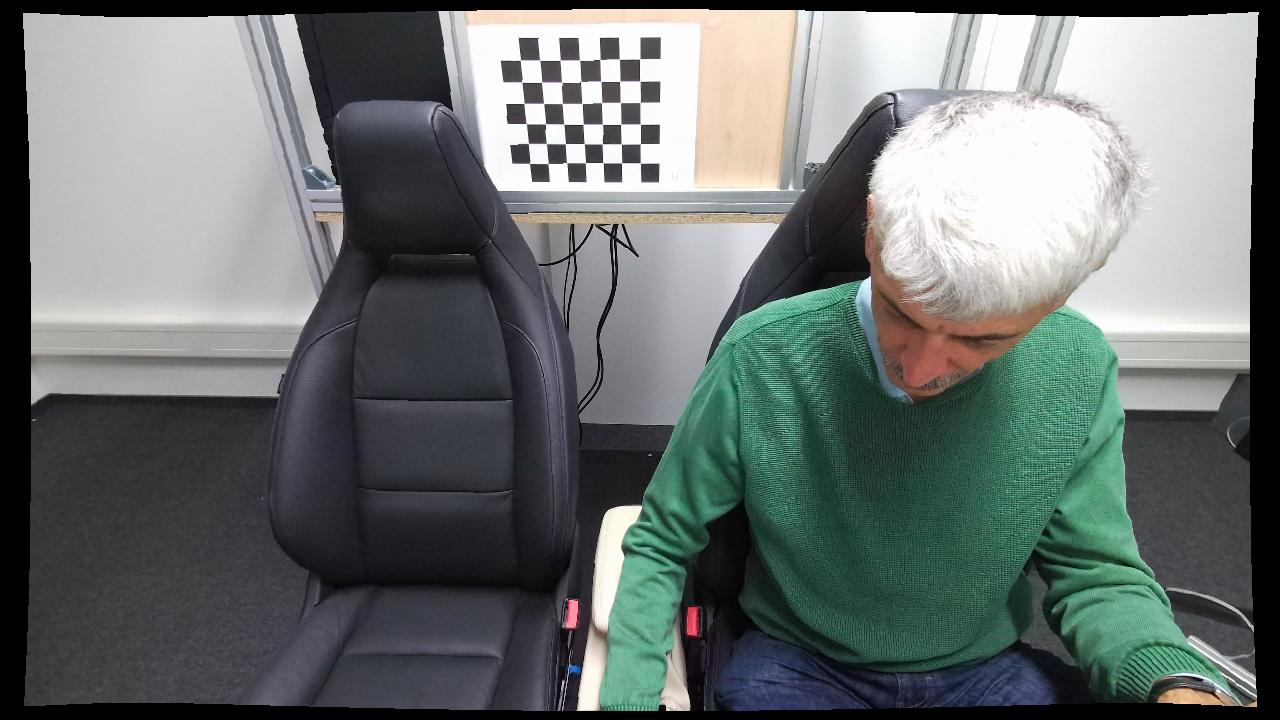Distracted: (598, 88, 1152, 708)
